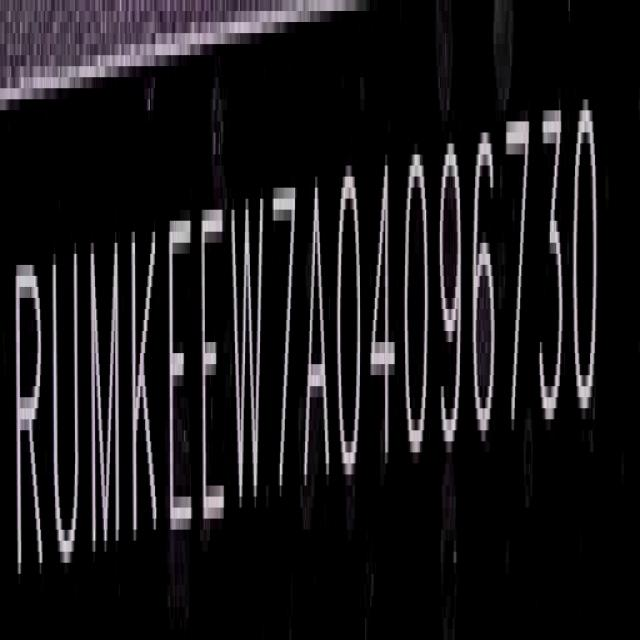0: (337, 160, 364, 495), (573, 101, 600, 428), (405, 148, 429, 468)
3: (539, 102, 568, 431)
4: (372, 153, 399, 483)
6: (470, 121, 496, 457)
7: (273, 177, 301, 522), (507, 107, 532, 446)
9: (437, 138, 464, 461)
A: (304, 173, 332, 507)
E: (166, 208, 195, 554), (201, 198, 227, 546)
K: (130, 214, 160, 562)
M: (88, 228, 124, 574)
R: (16, 252, 46, 590)
U: (48, 242, 81, 581)
W: (229, 185, 265, 530)
